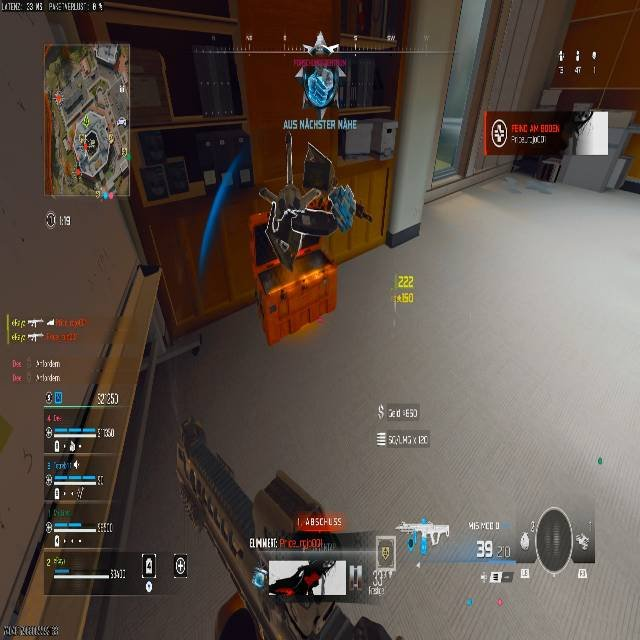head: (302, 153, 333, 190)
player: (260, 152, 368, 261)
